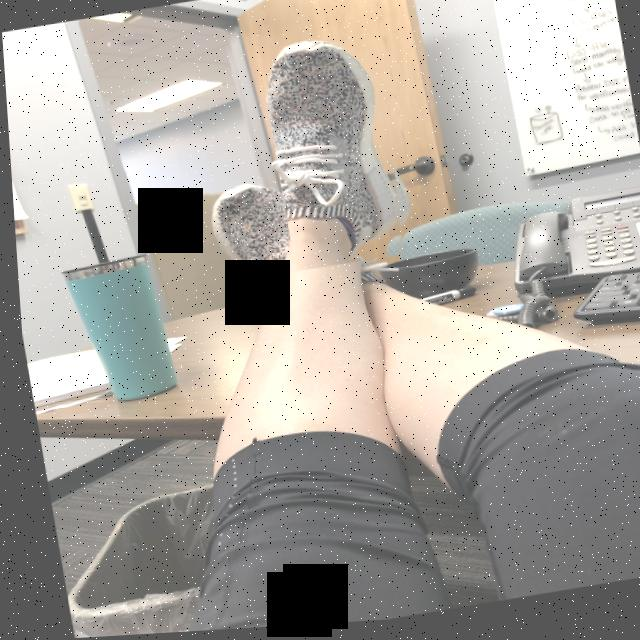shoe: (255, 23, 416, 275), (189, 162, 284, 318)
